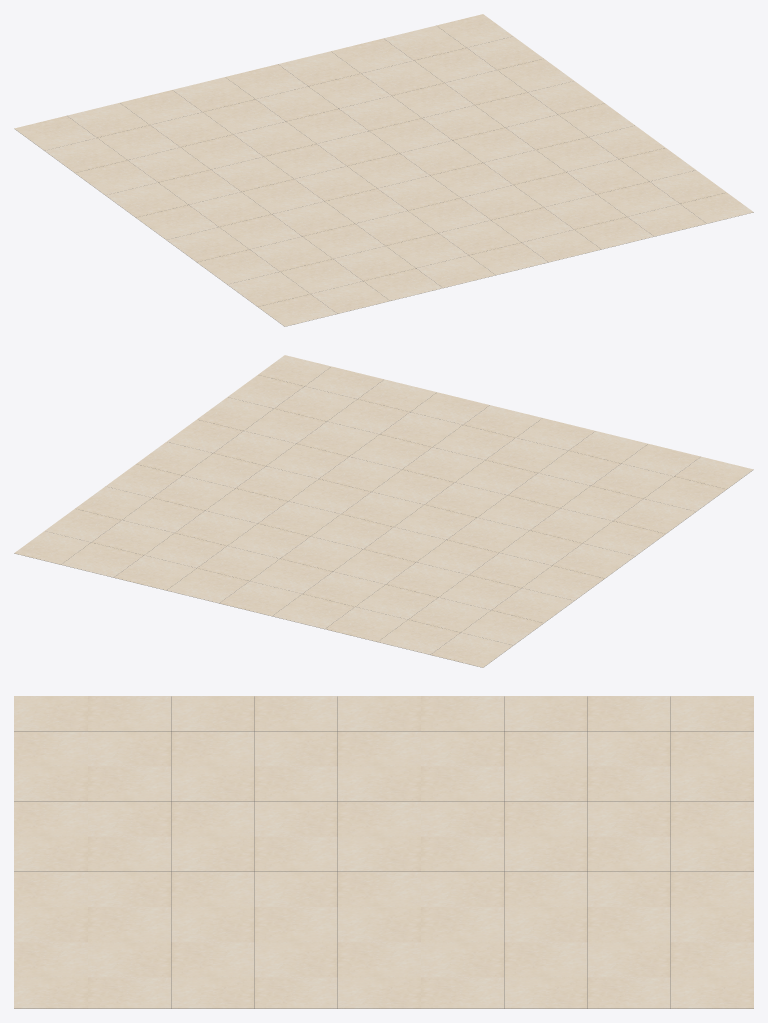
File: crema-marfil-90x90.glb
3 renders of one model, top to bottom at view 1: azimuth 30°, elevation 25°; view 2: azimuth 150°, elevation 25°; view 3: azimuth 270°, elevation 25°, orthographic. The views are drawn at different scales.
Parts seen in each view (by area): view 1: Crema Marfil; view 2: Crema Marfil; view 3: Crema Marfil.
Boxes of the visible parts, left/top/right/bottom form: Crema Marfil: left=14, top=14, right=753, bottom=326; Crema Marfil: left=14, top=355, right=753, bottom=667; Crema Marfil: left=14, top=696, right=753, bottom=1008.
Size of the model in its own units: 8 by 0.003 by 8.
Materials: 2 (1 with a texture image).
